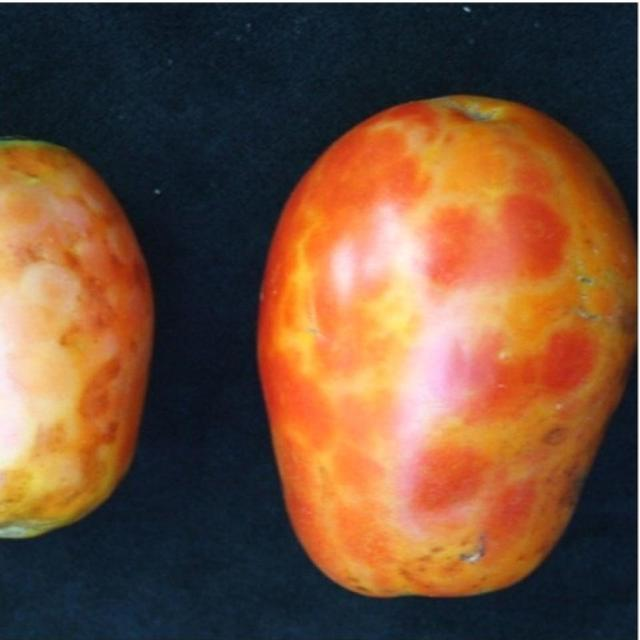Spotted wilt Virus Fruit: (51, 225, 298, 337)
